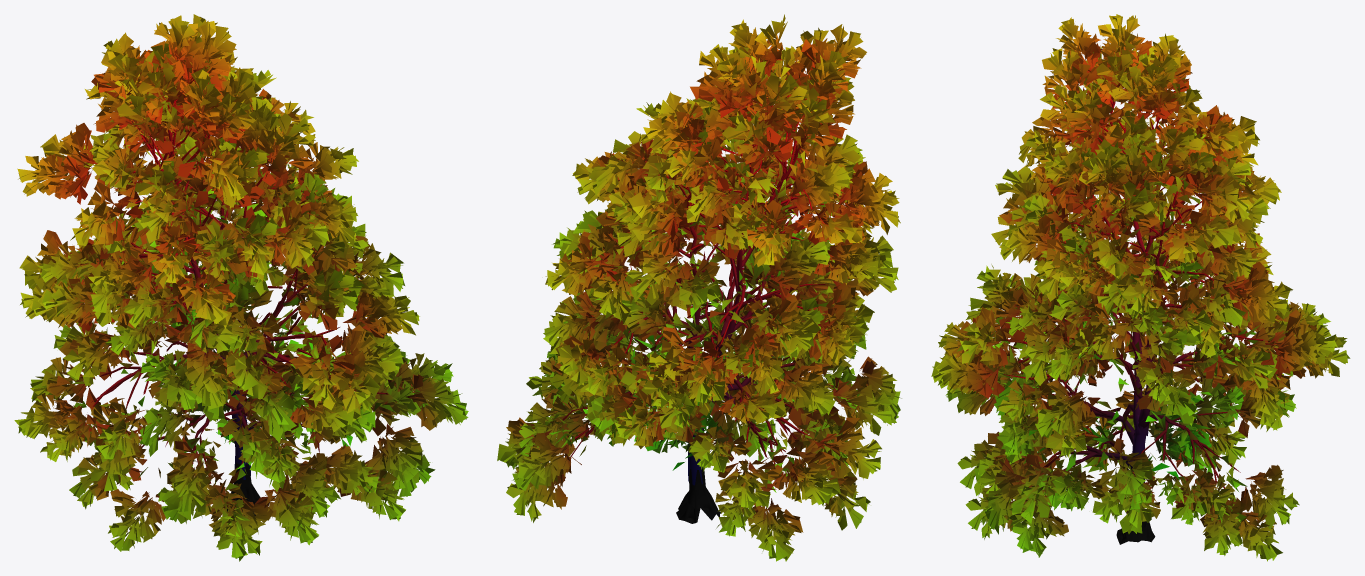
File: SM_BlackAlder.FBX
3 views of the same model, side by side, from view 1: azimuth 30°, elevation 25°; view 2: azimuth 150°, elevation 25°; view 3: azimuth 270°, elevation 25° (orthographic). The views are drawn at different scales.
Visible parts, largest first — view 1: SM_BlackAlder_Field_01; view 2: SM_BlackAlder_Field_01; view 3: SM_BlackAlder_Field_01.
Part boxes in pixels (x1=…): SM_BlackAlder_Field_01: x1=14, y1=14, x2=468, y2=561; SM_BlackAlder_Field_01: x1=497, y1=14, x2=901, y2=561; SM_BlackAlder_Field_01: x1=931, y1=14, x2=1350, y2=561.
Size of the model in its own units: 1191 by 1266 by 1606.
